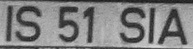1: (80, 4, 99, 46)
5: (56, 4, 81, 45)
A: (160, 6, 187, 46)
I: (1, 2, 15, 44), (146, 5, 157, 45)
S: (117, 5, 146, 45), (16, 2, 43, 44)
